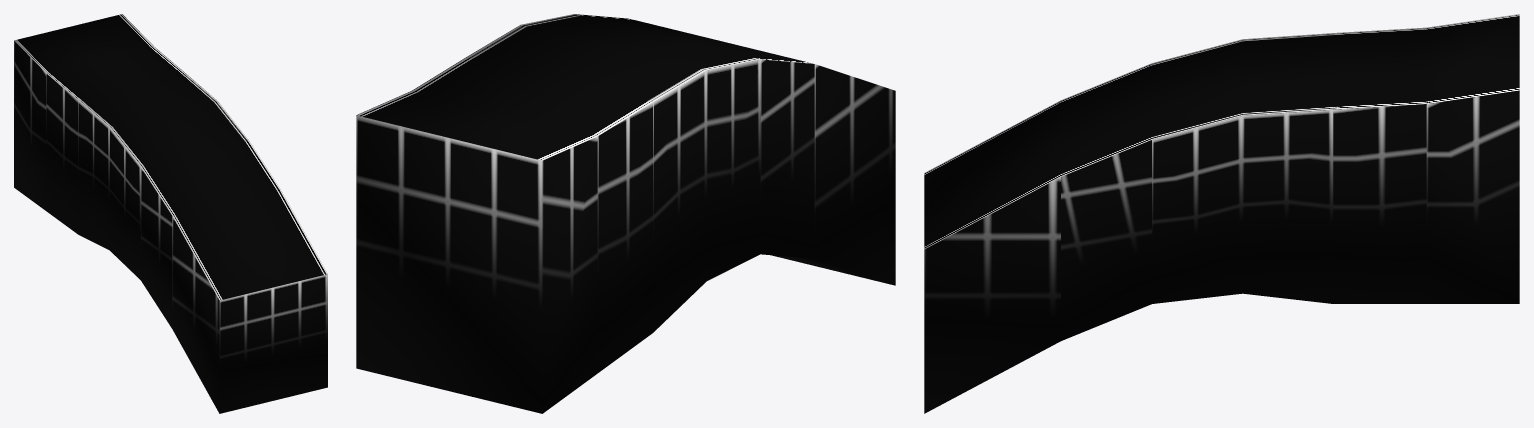
Rendered from scifi_cube_straight_curve.dae.
3 views of the same model, side by side, from view 1: azimuth 30°, elevation 25°; view 2: azimuth 150°, elevation 25°; view 3: azimuth 270°, elevation 25° (orthographic). The views are drawn at different scales.
Visible parts, largest first — view 1: Cube; view 2: Cube; view 3: Cube.
Part boxes in pixels (x1=…): Cube: x1=14, y1=14, x2=327, y2=413; Cube: x1=356, y1=14, x2=895, y2=413; Cube: x1=924, y1=14, x2=1519, y2=413.
Bounding box in the file's own units: 2 × 6.57 × 3.94.
Materials: 2 (2 with a texture image).
